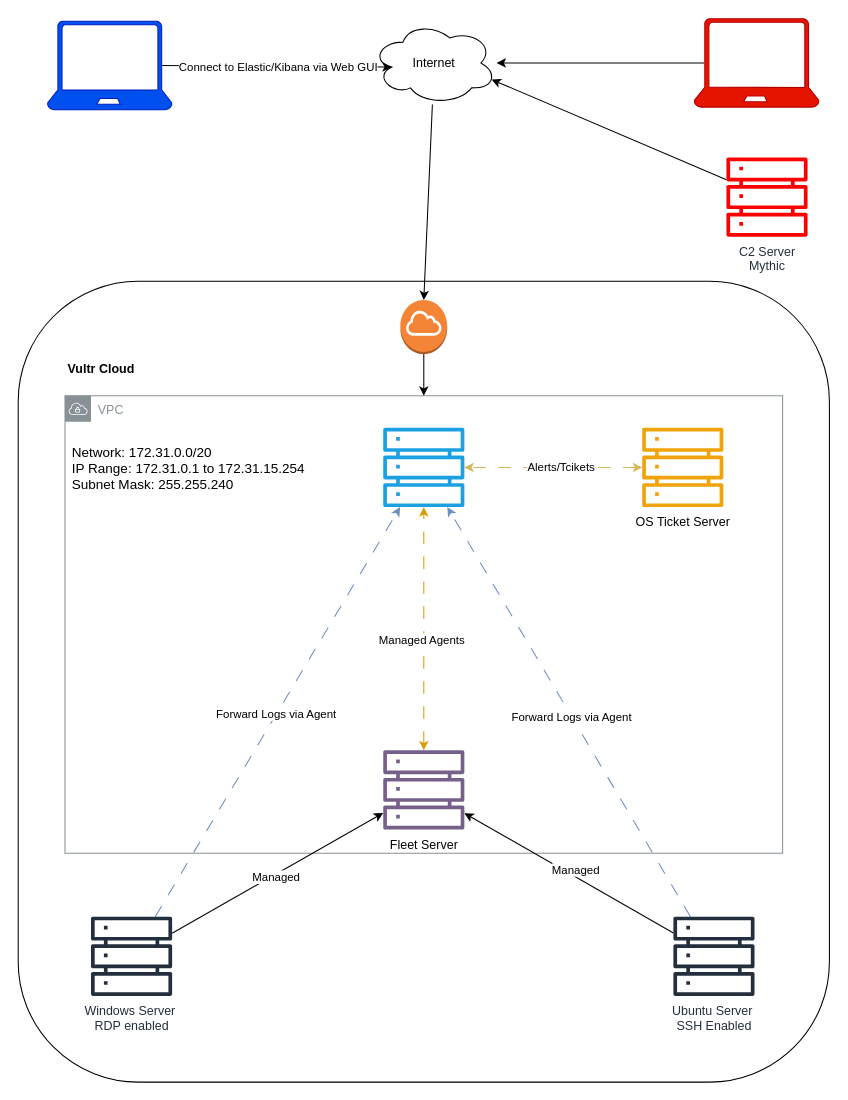
Image size: 848x1100. Some labels were removed from this diagram. The centre of each missing label's shape, as x and y in pixels:
"Attacker Laptop Kali Linux" goes at [756,62].
"Elastic & Kibana" goes at [423,467].
"Internet Gateway" goes at [423,326].
"SOC Analyst Laptop" goes at [109,65].
